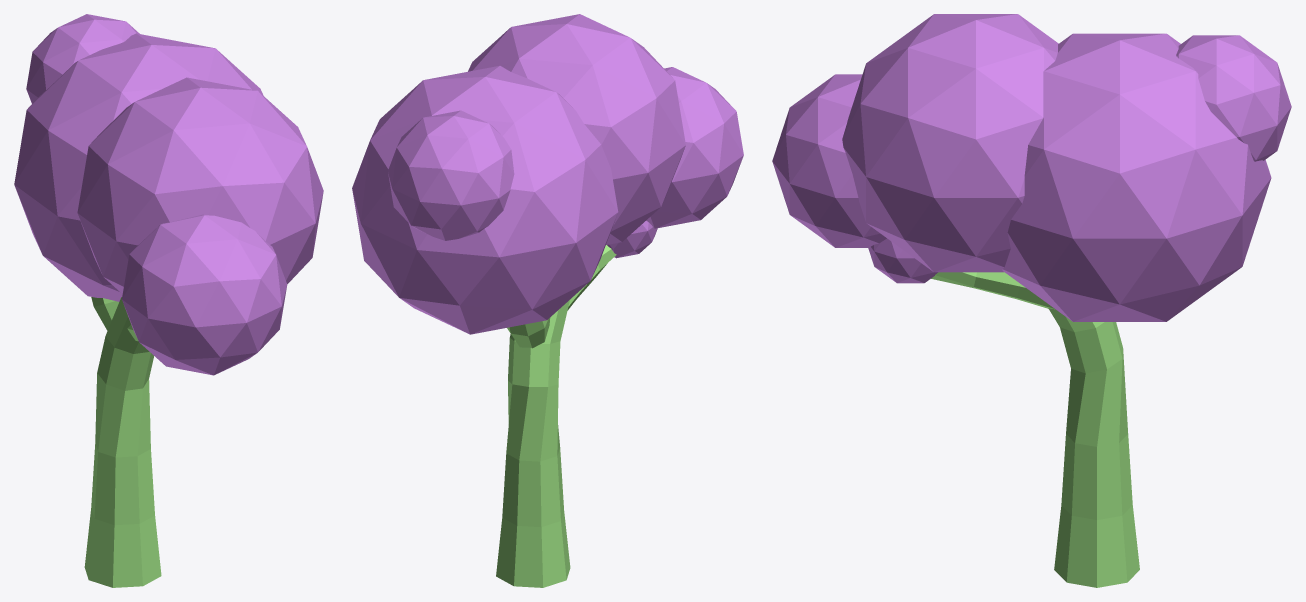
Rendered from OddTree2.fbx.
3 views of the same model, side by side, from view 1: azimuth 30°, elevation 25°; view 2: azimuth 150°, elevation 25°; view 3: azimuth 270°, elevation 25° (orthographic). The views are drawn at different scales.
Parts seen in each view (by area): view 1: Icosphere.004; view 2: Icosphere.004; view 3: Icosphere.004.
Boxes of the visible parts, <box> form: Icosphere.004: <box>14,14,323,587</box>; Icosphere.004: <box>352,14,743,587</box>; Icosphere.004: <box>772,14,1291,587</box>.
Bounding box in the file's own units: 218 × 431 × 361.
